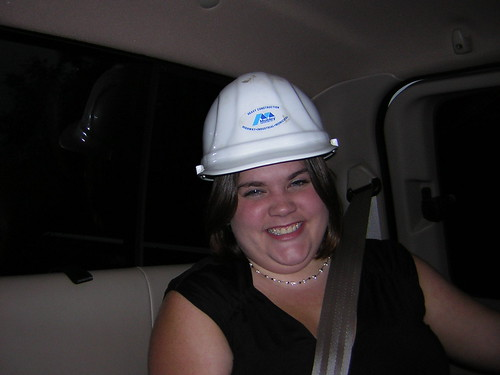person hardhat: (160, 73, 500, 375)
